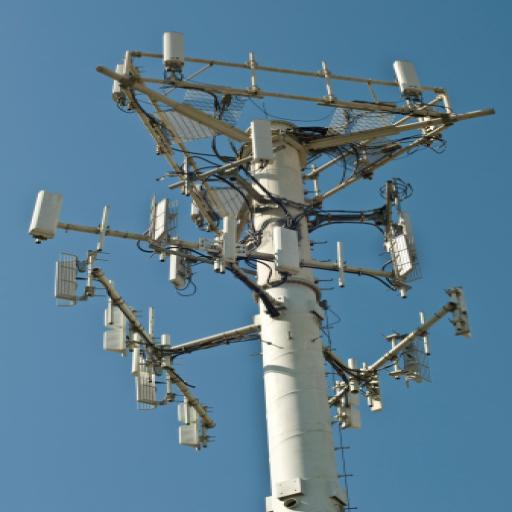monopole_tower: (32, 30, 498, 512)
